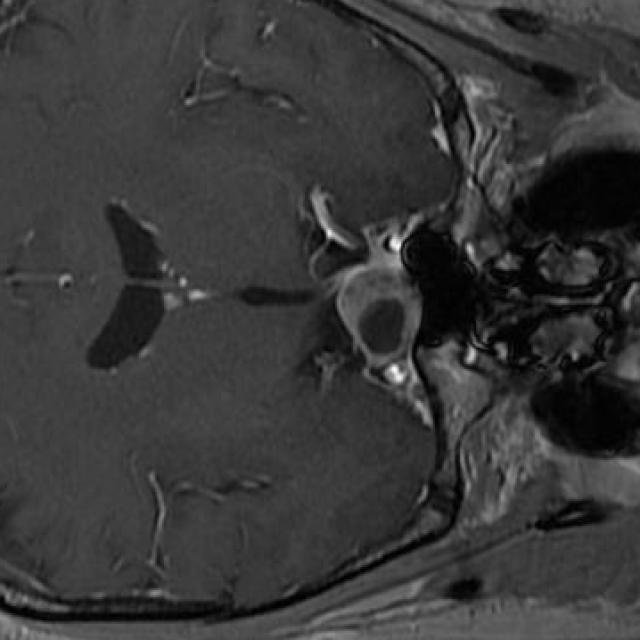pituitary: (333, 260, 423, 364)
